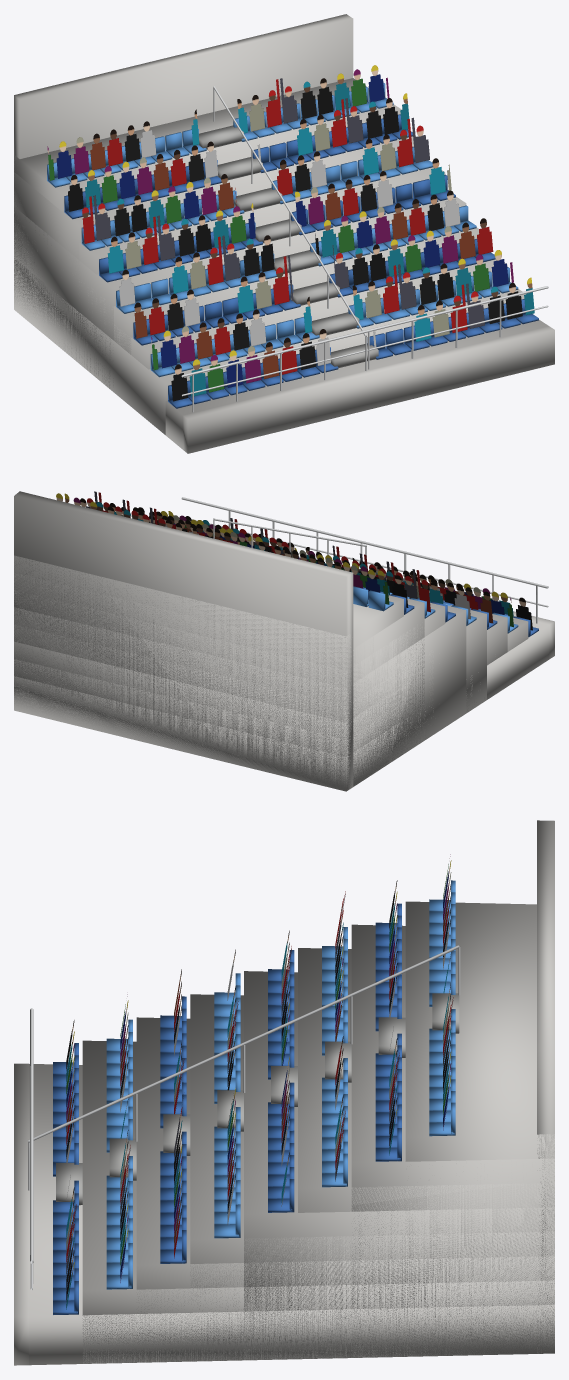
Rendered from bay_10m_curve6_in_crowd.glb.
3 views of the same model, one above another, from view 1: azimuth 30°, elevation 25°; view 2: azimuth 150°, elevation 25°; view 3: azimuth 270°, elevation 25° (orthographic). The views are drawn at different scales.
Parts seen in each view (by area): view 1: bay_10m_curve6_in_crowd; view 2: bay_10m_curve6_in_crowd; view 3: bay_10m_curve6_in_crowd.
Part boxes in pixels (x1,y1,x2,y2): bay_10m_curve6_in_crowd: (14, 14, 554, 453); bay_10m_curve6_in_crowd: (14, 491, 554, 791); bay_10m_curve6_in_crowd: (14, 820, 554, 1365).
Bounding box in the file's own units: 10.03 × 5.6 × 9.05.
6 materials, 1 textured.
